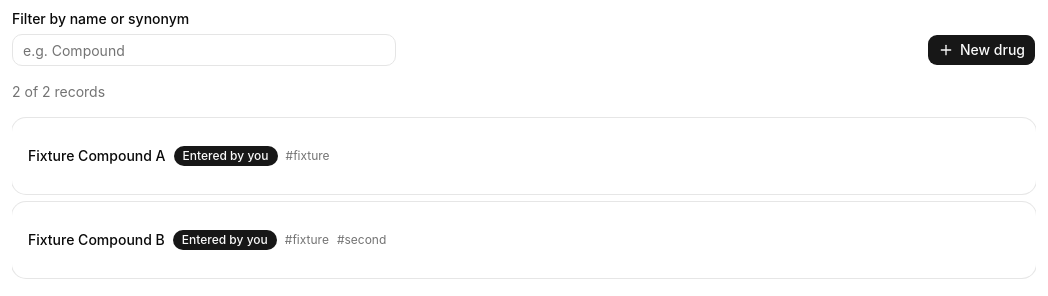
DrugLibraryView › filters by name and synonym without touching storage
Type "compound b" into the field with test id "library-filter" at point(204, 50), box [12,34,396,66]
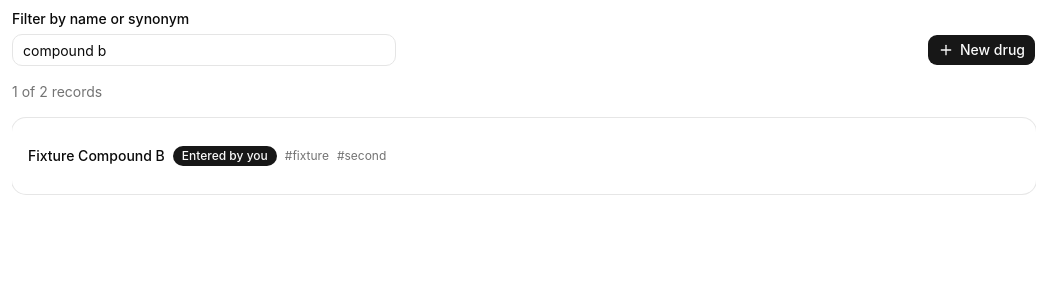
Expected: the text "Fixture Compound B" is shown, [28,146,165,166]
Now the link "Fixture Compound A" is gone
Now the text with test id "library-count" reads "1 of 2 records", box [12,83,102,100]
